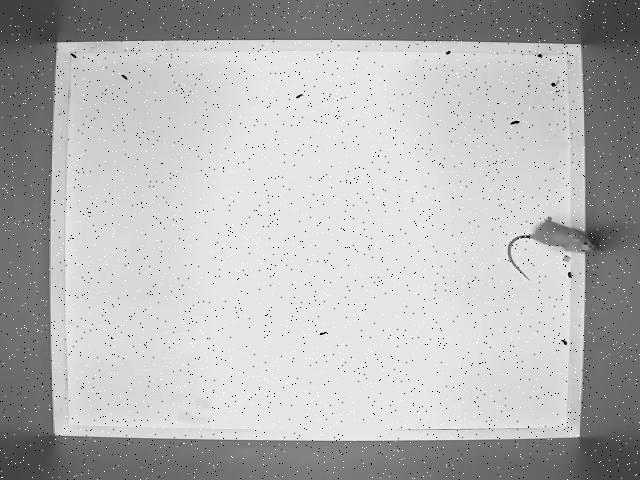Tikus: (506, 214, 596, 284)
